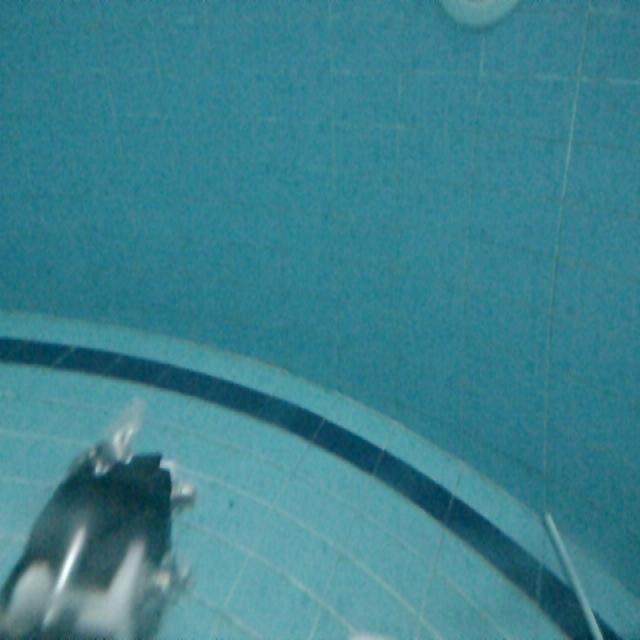Cube: (540, 508, 610, 640)
